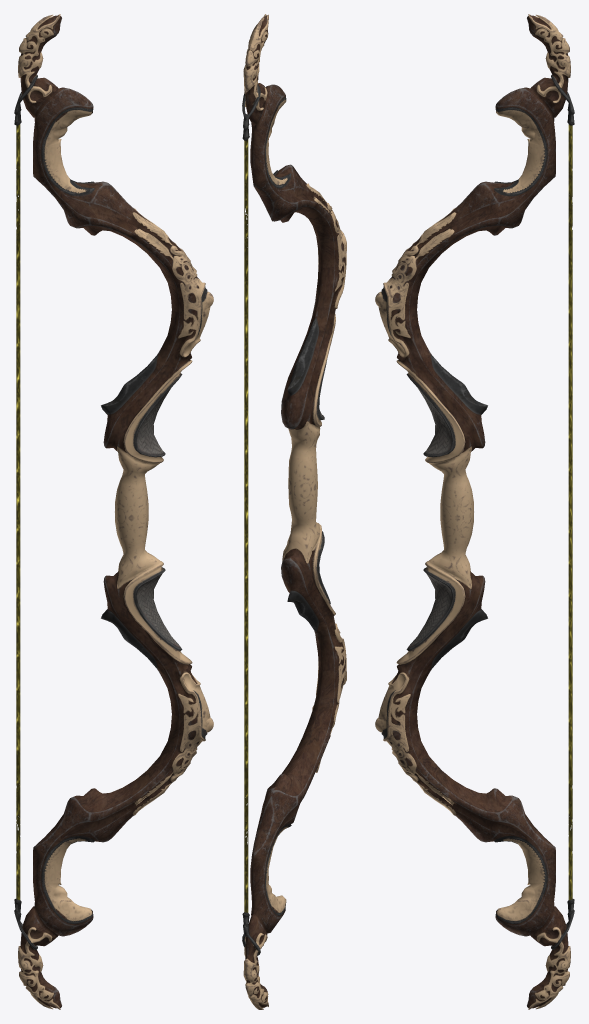
The model's file is Bow.gltf.
3 views of the same model, side by side, from view 1: azimuth 90°, elevation 25°; view 2: azimuth 150°, elevation 25°; view 3: azimuth 270°, elevation 25° (orthographic).
Parts seen in each view (by area): view 1: Sparrow.001; view 2: Sparrow.001; view 3: Sparrow.001.
Boxes of the visible parts, box(x1,y1,x2,y2) form: Sparrow.001: box(14, 14, 213, 1009); Sparrow.001: box(242, 14, 346, 1009); Sparrow.001: box(375, 14, 574, 1009).
Bounding box in the file's own units: 0.053 × 1.48 × 0.2689.
Materials: 2 (2 with a texture image).
